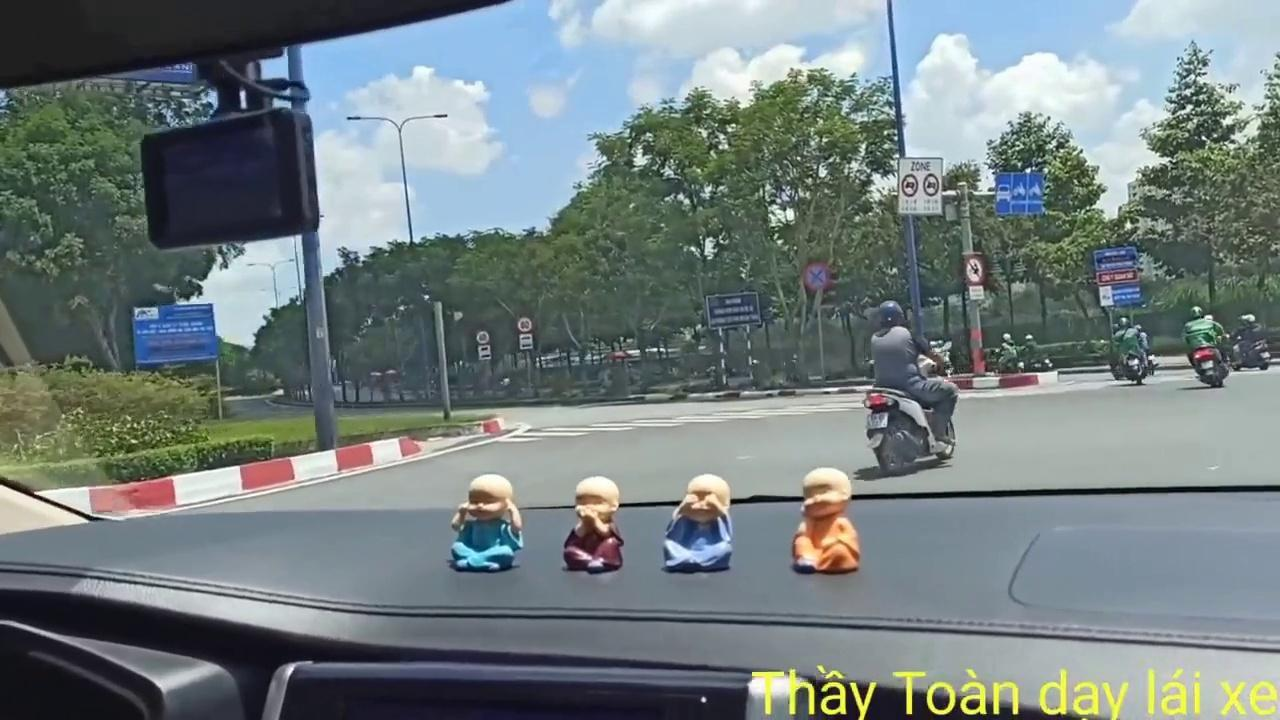Biển phụ: (476, 344, 493, 360), (519, 333, 533, 350)
Cấm cac phương tiện hoạt động trong khung giờ cố định: (894, 154, 947, 218)
Cấm dừng - Cấm đỗ: (801, 259, 829, 295)
Cấm xe máy: (964, 250, 989, 286)
GIơi hạn tốc độ 60Km/h: (476, 330, 490, 344)
Giới hạn tốc độ 80Km/h: (516, 316, 534, 332)
Khác: (129, 300, 220, 364), (1092, 243, 1148, 312)
Làn đường cho từng xe: (992, 169, 1046, 219)
